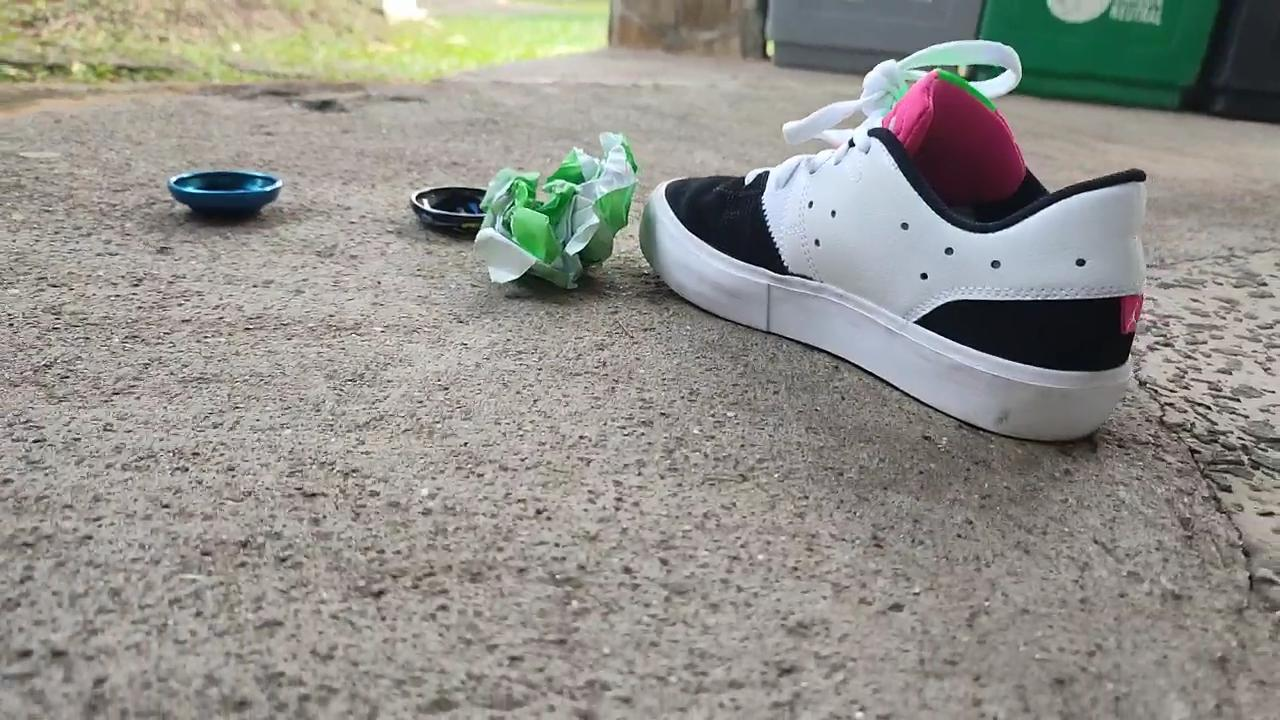Paper: (464, 107, 649, 315)
